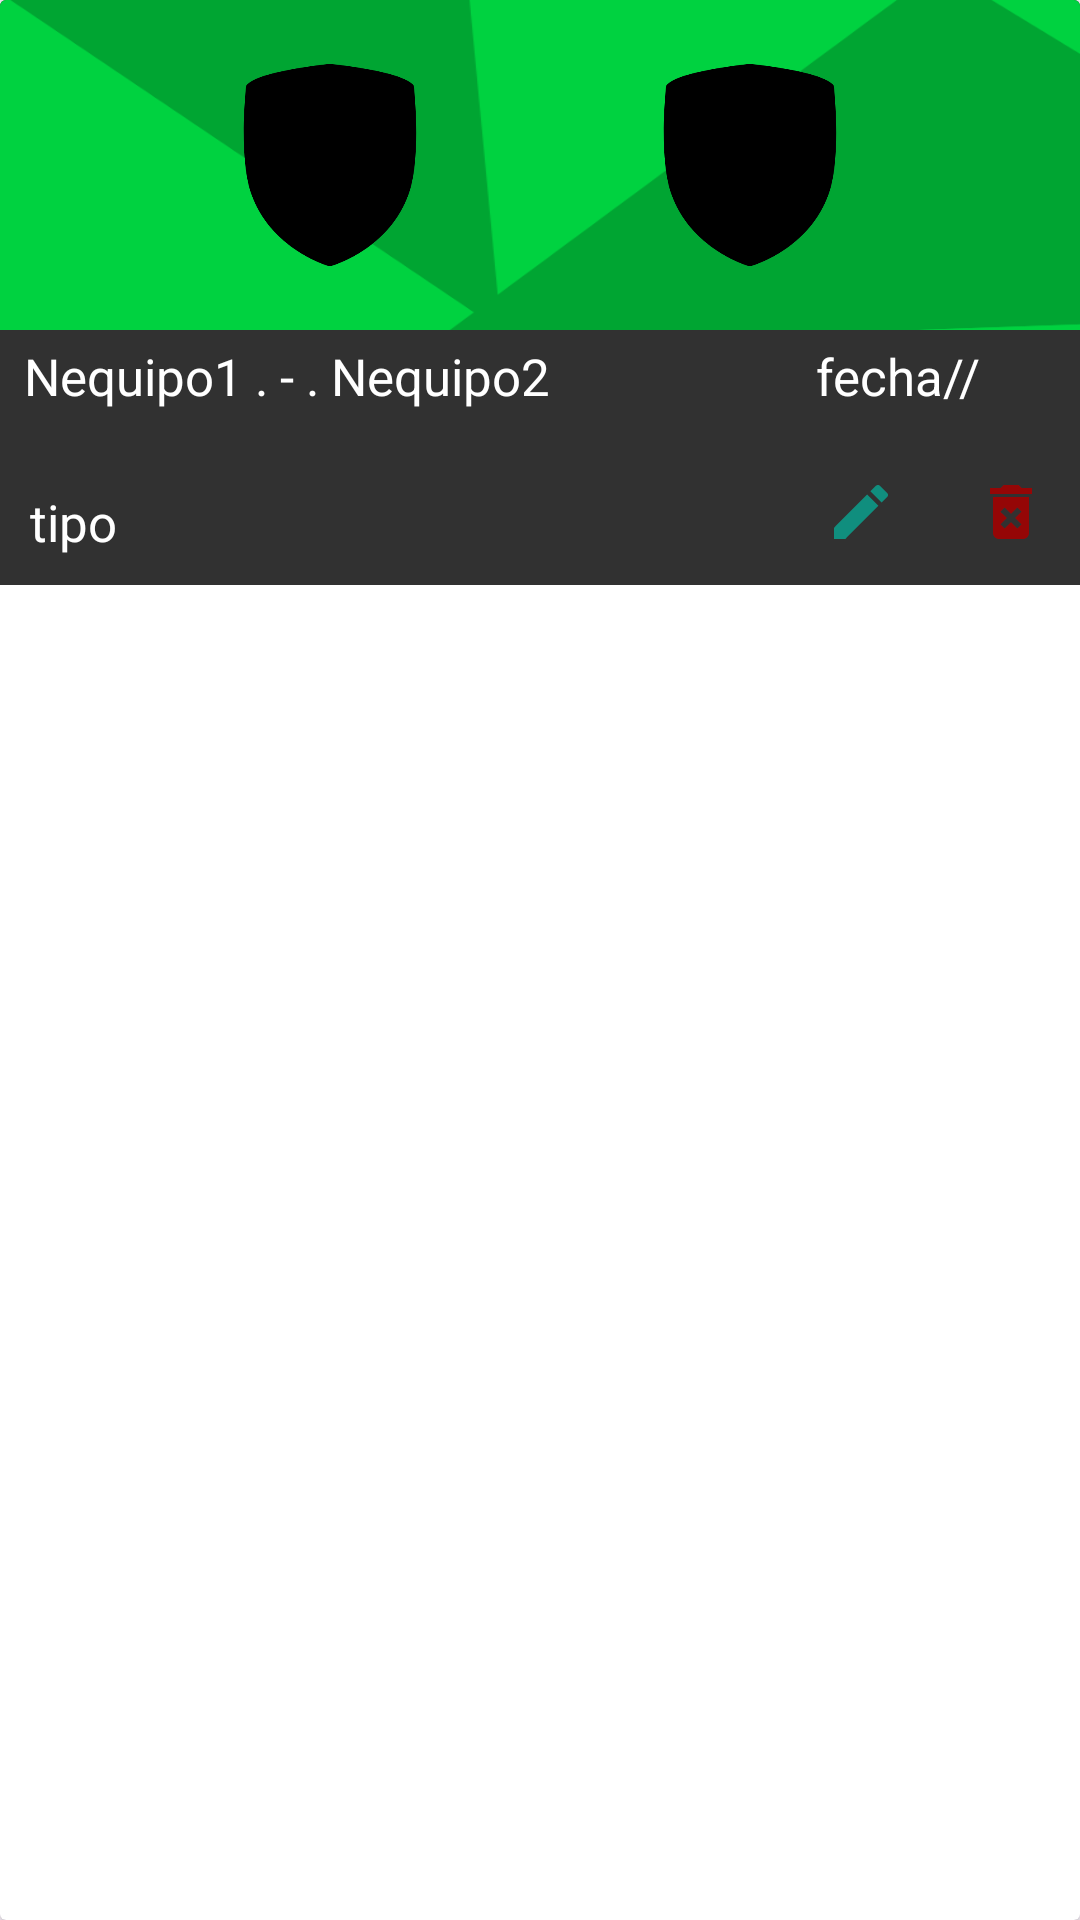

Named icons in this screenshot (1080x1920) and their bounding boxes, (x1, y1, x2, y2):
editar: (834, 485, 888, 539)
eliminar: (990, 485, 1032, 539)
